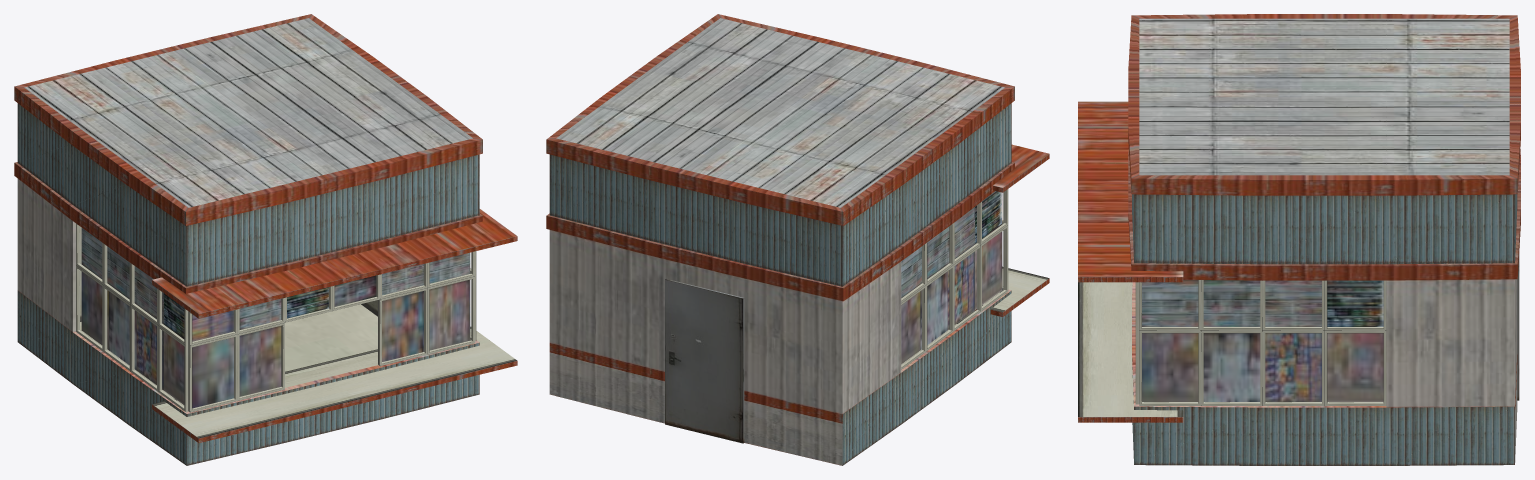
The model's file is kiosk.glb.
The picture shows the model from 3 angles, left to right: view 1: azimuth 30°, elevation 25°; view 2: azimuth 150°, elevation 25°; view 3: azimuth 270°, elevation 25°; orthographic projection. The views are drawn at different scales.
Parts seen in each view (by area): view 1: Object_6, Object_3, Object_4, Object_7, Object_2; view 2: Object_4, Object_6, Object_3, Object_5, Object_7, Object_2; view 3: Object_6, Object_3, Object_4, Object_7, Object_2.
Part boxes in pixels (x1,y1,x2,y2): Object_6: (24,18,472,207); Object_3: (17,103,479,465); Object_4: (14,14,517,442); Object_7: (81,228,470,408); Object_2: (76,223,516,438); Object_4: (546,14,1049,465); Object_6: (556,18,1004,207); Object_3: (549,103,1011,465); Object_5: (665,279,744,443); Object_7: (901,191,1002,363); Object_2: (901,189,1048,369); Object_6: (1139,18,1509,175); Object_3: (1132,194,1517,465); Object_4: (1078,14,1520,462); Object_7: (1142,280,1383,401); Object_2: (1078,280,1386,416).
Size of the model in its own units: 2.81 by 2.15 by 3.
7 materials, 7 textured.
